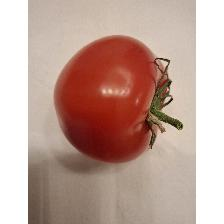Tomate: (54, 30, 188, 166)
